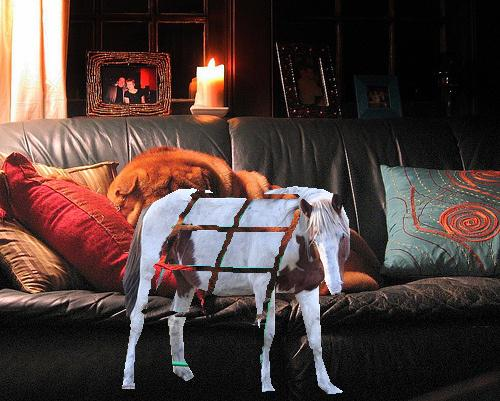tampered: (123, 187, 350, 394)
